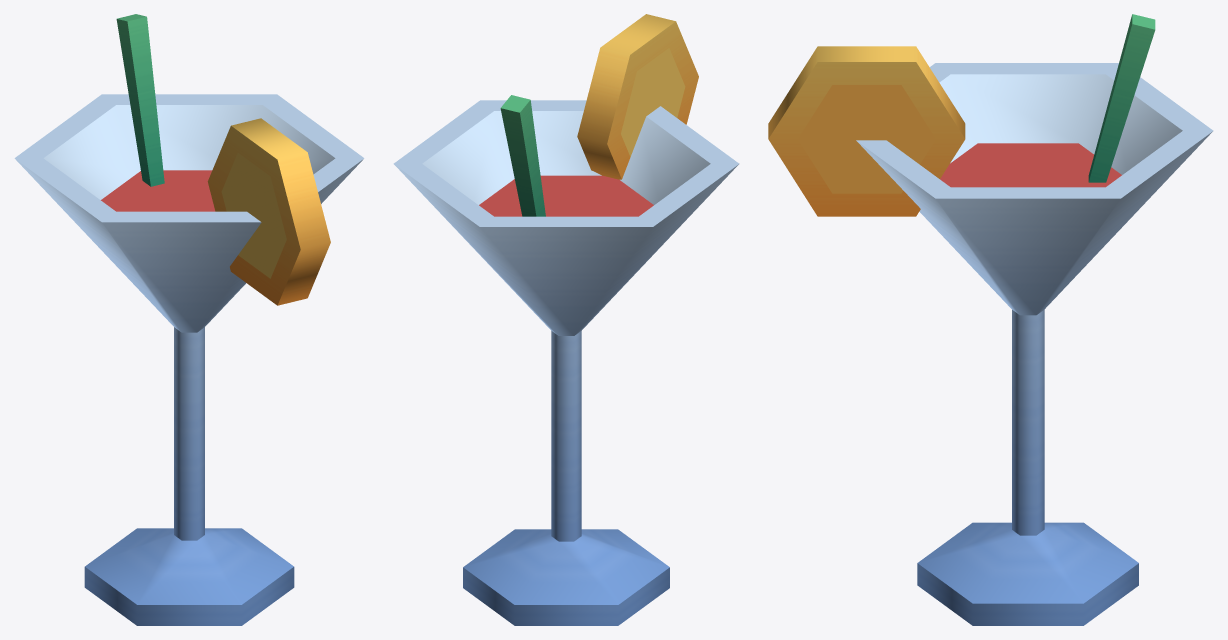
The model's file is glassCocktail.fbx.
3 renders of one model, left to right at view 1: azimuth 30°, elevation 25°; view 2: azimuth 150°, elevation 25°; view 3: azimuth 270°, elevation 25°, orthographic. The views are drawn at different scales.
Visible parts, largest first — view 1: glassCocktail, lemon, straw; view 2: glassCocktail, lemon, straw; view 3: glassCocktail, lemon, straw.
Part boxes in pixels (x1,y1,x2,y2): glassCocktail: (14,94,364,625); lemon: (207,118,330,305); straw: (116,14,164,186); glassCocktail: (393,100,739,625); lemon: (577,14,698,179); straw: (500,95,545,216); glassCocktail: (856,63,1213,625); lemon: (768,46,965,216); straw: (1088,14,1155,182).
Bounding box in the file's own units: 0.0652 × 0.0904 × 0.1265.
